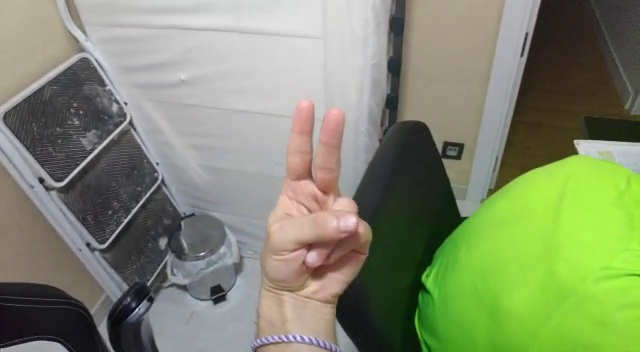Peace: (250, 96, 376, 306)
